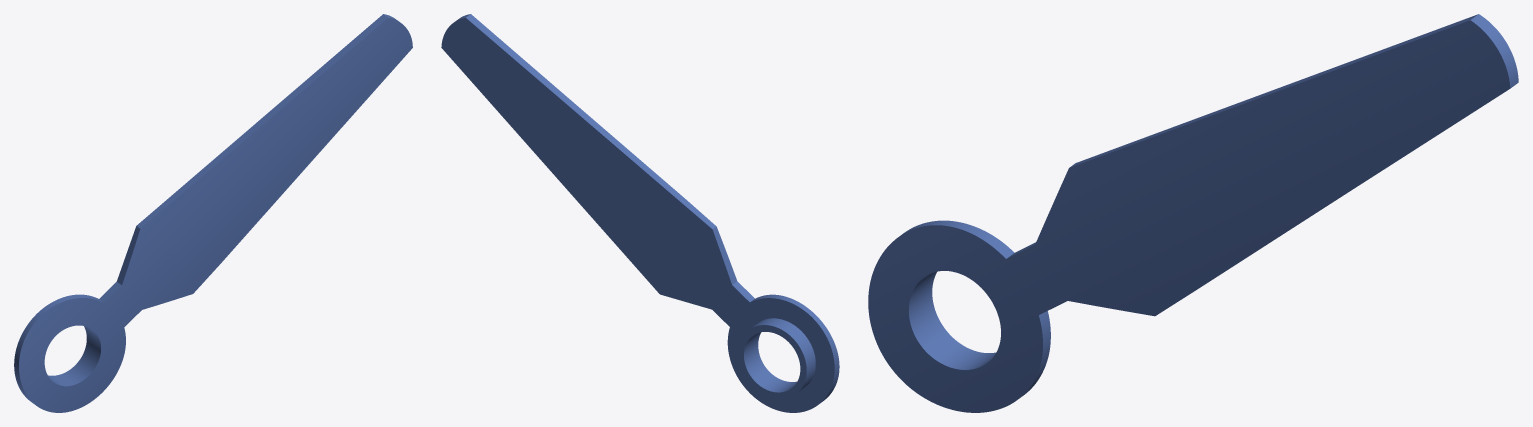
File: hand.glb
3 renders of one model, left to right at view 1: azimuth 30°, elevation 25°; view 2: azimuth 150°, elevation 25°; view 3: azimuth 330°, elevation 25°, orthographic. The views are drawn at different scales.
Visible parts, largest first — view 1: clock_hand_loose; view 2: clock_hand_loose; view 3: clock_hand_loose.
Part boxes in pixels (<box>): clock_hand_loose: <box>14,14,412,412</box>; clock_hand_loose: <box>441,14,839,412</box>; clock_hand_loose: <box>868,14,1518,412</box>.
Size of the model in its own units: 0.00625 by 0.00481 by 0.0004.
